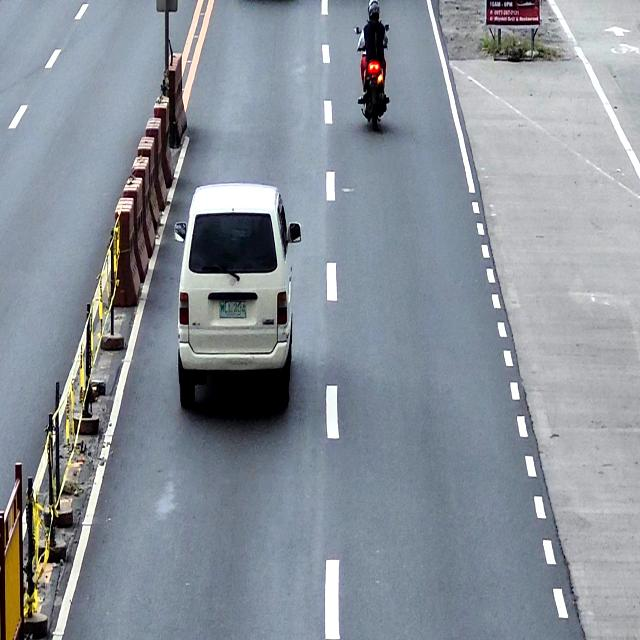Car: (174, 182, 301, 408)
License-Plate: (218, 297, 247, 319)
Motorcycle: (354, 24, 390, 131)
